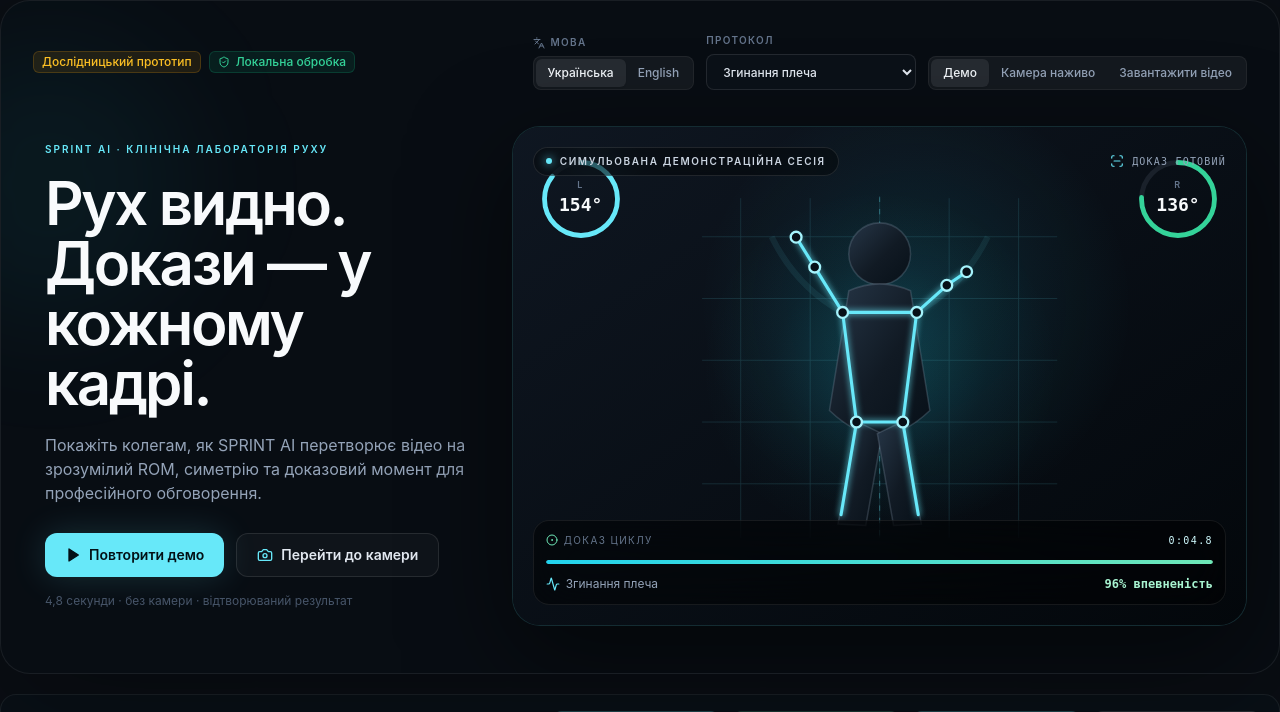
Test case: RehabilitationPage › switches the complete demo experience to English
Click the button "English": (658, 73) 626,59 -> 691,87
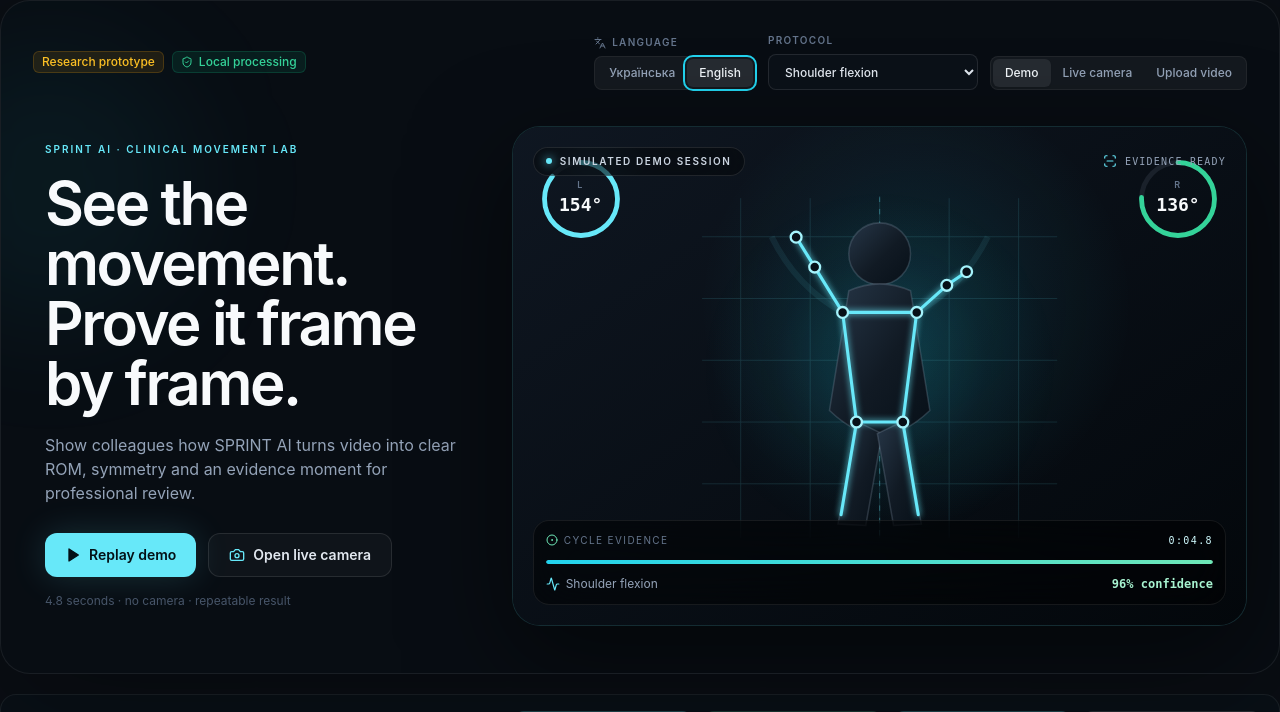
Check: the heading "See the movement. Prove it frame by frame." is shown, box 45,173 -> 472,413
Check: the text "Research prototype" is shown, box 33,50 -> 164,72
Check: the text "Simulated demo session" is shown, box 533,146 -> 744,176
